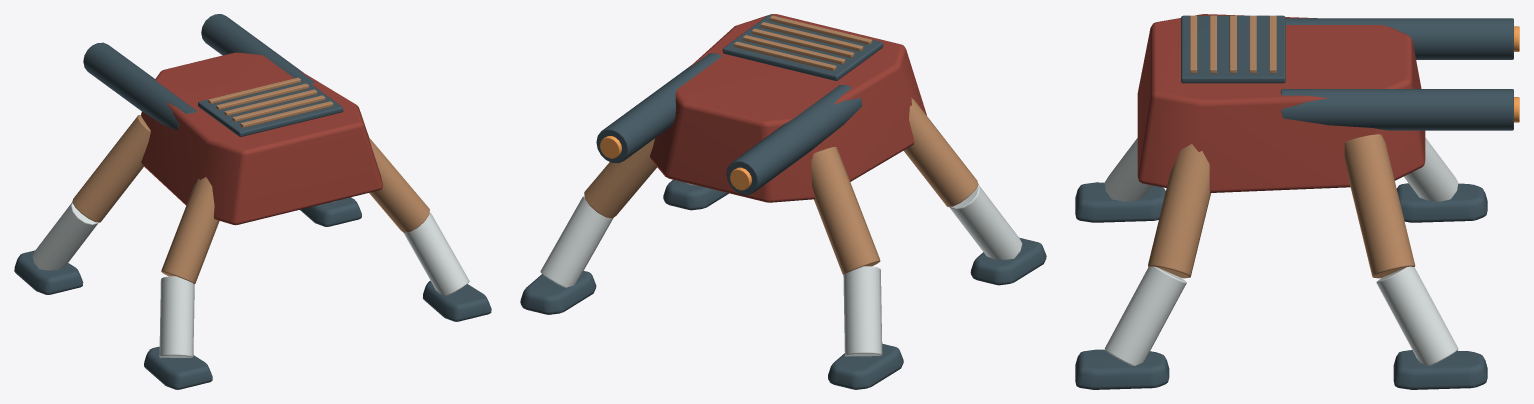
The model's file is SiegeWalker115.fbx.
3 views of the same model, side by side, from view 1: azimuth 30°, elevation 25°; view 2: azimuth 150°, elevation 25°; view 3: azimuth 270°, elevation 25° (orthographic). The views are drawn at different scales.
Parts seen in each view (by area): view 1: Walker reactor carapace, Twin pulse emitter, Exposed hydraulic femur.001, Exposed hydraulic femur, Armoured tibia, Inset service well.010, Armoured tibia.002, Exposed hydraulic femur.002, Armoured tibia.001, Twin pulse emitter.001, Stabilizer foot, Stabilizer foot.002 (+7 smaller); view 2: Walker reactor carapace, Twin pulse emitter, Exposed hydraulic femur.001, Exposed hydraulic femur, Twin pulse emitter.001, Armoured tibia.001, Inset service well.010, Armoured tibia.003, Exposed hydraulic femur.003, Armoured tibia, Stabilizer foot.001, Stabilizer foot.003 (+7 smaller); view 3: Walker reactor carapace, Twin pulse emitter.001, Exposed hydraulic femur.003, Exposed hydraulic femur.002, Inset service well.010, Twin pulse emitter, Armoured tibia.003, Armoured tibia.002, Stabilizer foot.002, Stabilizer foot.003, Stabilizer foot, Stabilizer foot.001 (+7 smaller).
Part boxes in pixels (<box>): Walker reactor carapace: <box>141,52,382,225</box>; Twin pulse emitter: <box>83,42,197,130</box>; Exposed hydraulic femur.001: <box>72,115,150,222</box>; Exposed hydraulic femur: <box>161,177,219,283</box>; Armoured tibia: <box>159,276,194,357</box>; Inset service well.010: <box>198,77,343,136</box>; Armoured tibia.002: <box>403,212,469,295</box>; Exposed hydraulic femur.002: <box>369,137,429,232</box>; Armoured tibia.001: <box>32,202,98,270</box>; Twin pulse emitter.001: <box>201,14,314,83</box>; Stabilizer foot: <box>144,346,212,389</box>; Stabilizer foot.002: <box>423,280,491,321</box>; Walker reactor carapace: <box>650,14,926,202</box>; Twin pulse emitter: <box>726,85,862,194</box>; Exposed hydraulic femur.001: <box>811,147,880,274</box>; Exposed hydraulic femur: <box>903,98,978,206</box>; Twin pulse emitter.001: <box>596,53,721,163</box>; Armoured tibia.001: <box>843,266,882,356</box>; Inset service well.010: <box>722,14,883,80</box>; Armoured tibia.003: <box>540,196,612,287</box>; Exposed hydraulic femur.003: <box>584,138,657,218</box>; Armoured tibia: <box>949,185,1022,259</box>; Stabilizer foot.001: <box>828,343,903,389</box>; Stabilizer foot.003: <box>520,271,596,314</box>; Walker reactor carapace: <box>1137,14,1425,192</box>; Twin pulse emitter.001: <box>1280,89,1513,130</box>; Exposed hydraulic femur.003: <box>1344,134,1415,278</box>; Exposed hydraulic femur.002: <box>1148,144,1210,278</box>; Inset service well.010: <box>1181,15,1285,83</box>; Twin pulse emitter: <box>1285,18,1513,59</box>; Armoured tibia.003: <box>1376,266,1458,366</box>; Armoured tibia.002: <box>1104,266,1186,366</box>; Stabilizer foot.002: <box>1075,349,1169,389</box>; Stabilizer foot.003: <box>1393,350,1487,389</box>; Stabilizer foot: <box>1075,182,1165,222</box>; Stabilizer foot.001: <box>1397,183,1487,222</box>.
Size of the model in its own units: 286 by 173 by 276.
